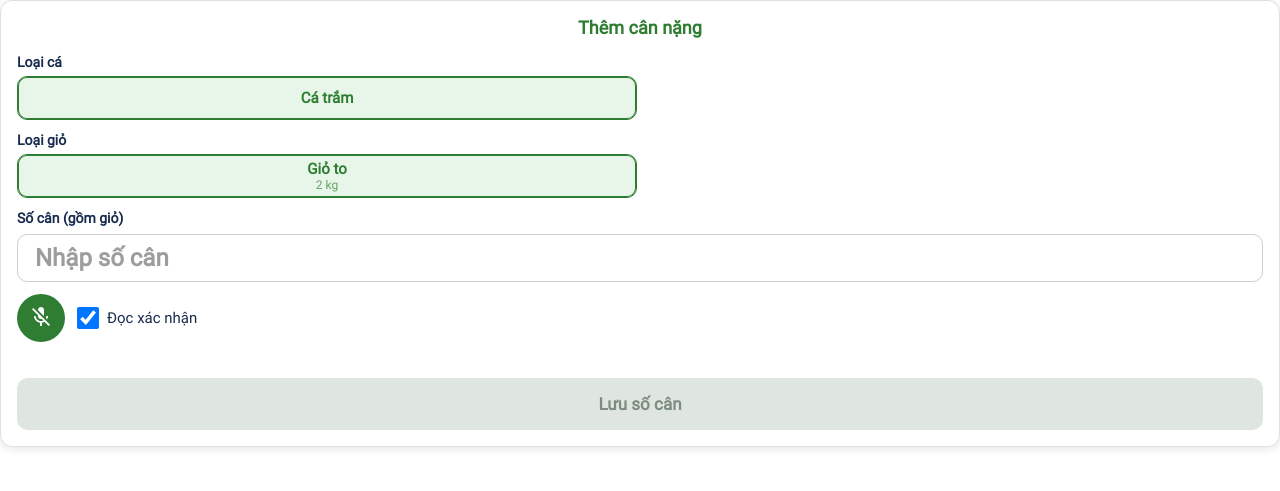
Scenario: Lưới chọn cá/giỏ › nút Lưu mờ khi thiếu cá, giỏ hoặc số cân; bật khi đủ
Check: the button with id "btnSaveFishWeight" is disabled, box [17,378,1263,430]
In the field with id "fishWeight": (640, 258) [19,236,1262,280], type "25"
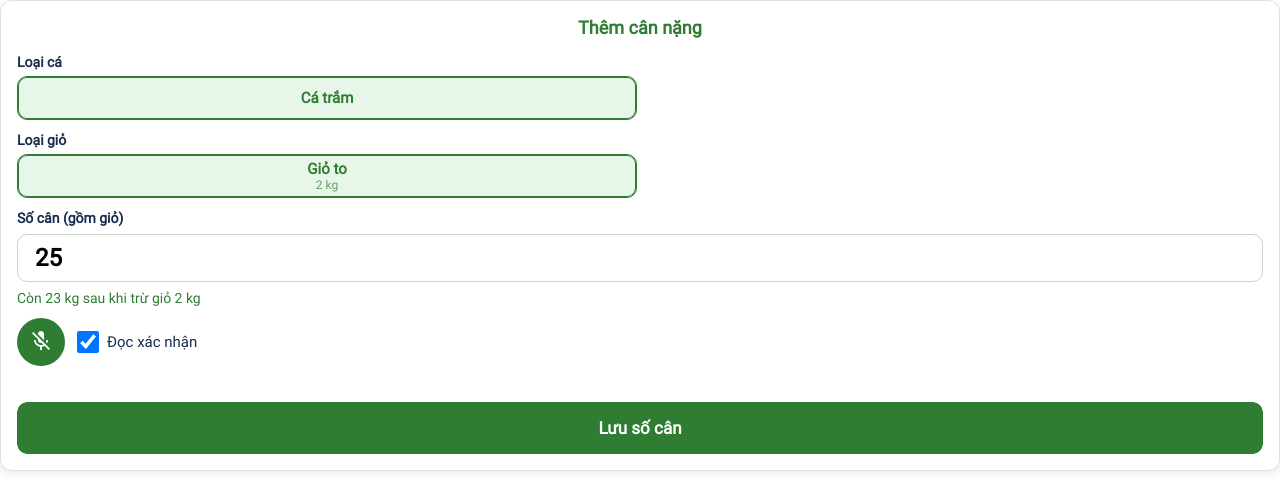
Check: the button with id "btnSaveFishWeight" is enabled, box [17,402,1263,454]
